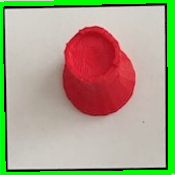Red Castle: (52, 21, 141, 117)
